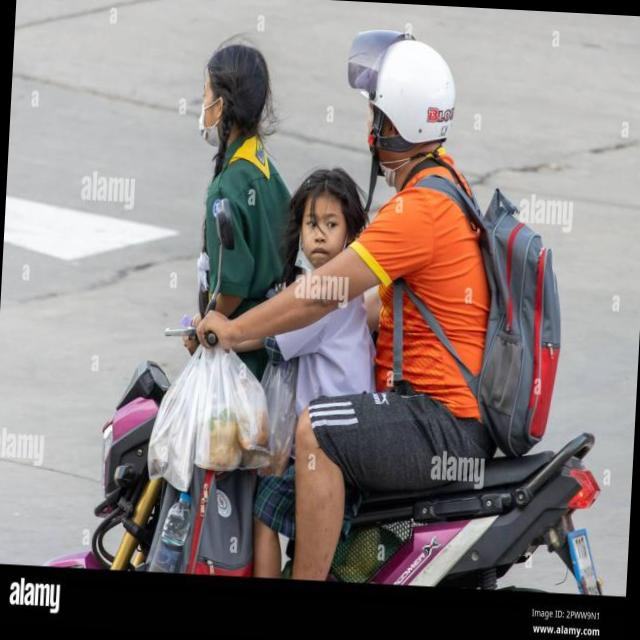Triple riding: (155, 11, 552, 484)
